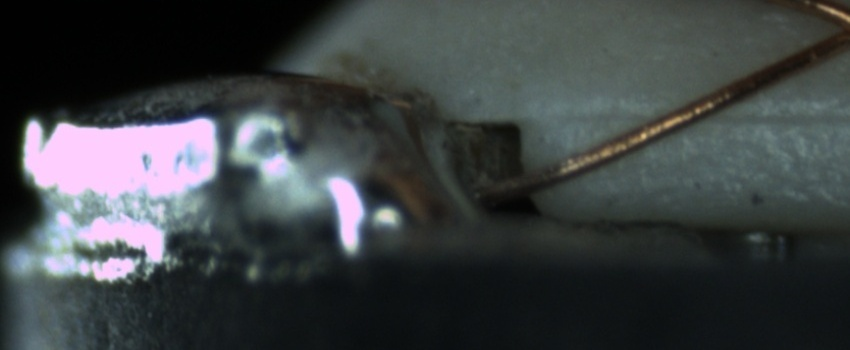CL: (810, 7, 850, 52)
DL: (551, 86, 849, 144)
